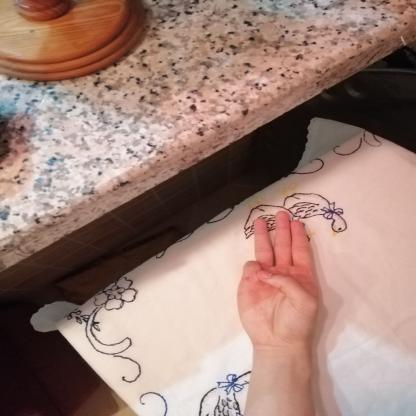THA: (224, 201, 335, 360)
